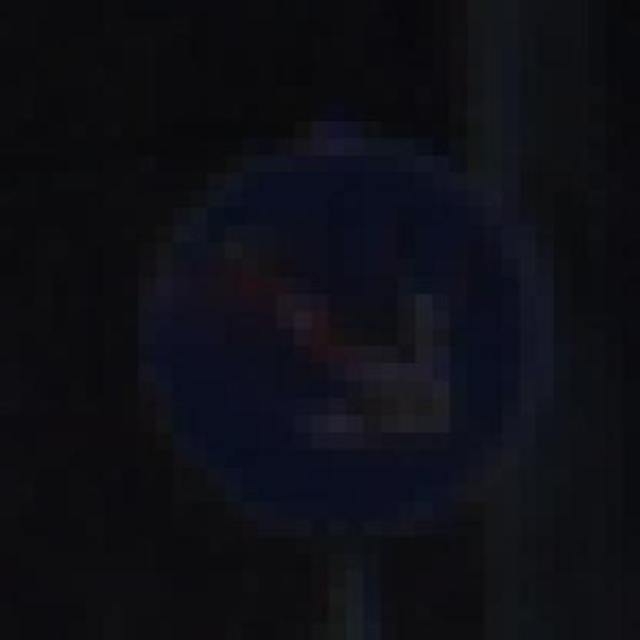Keep-Right: (103, 86, 554, 537)
